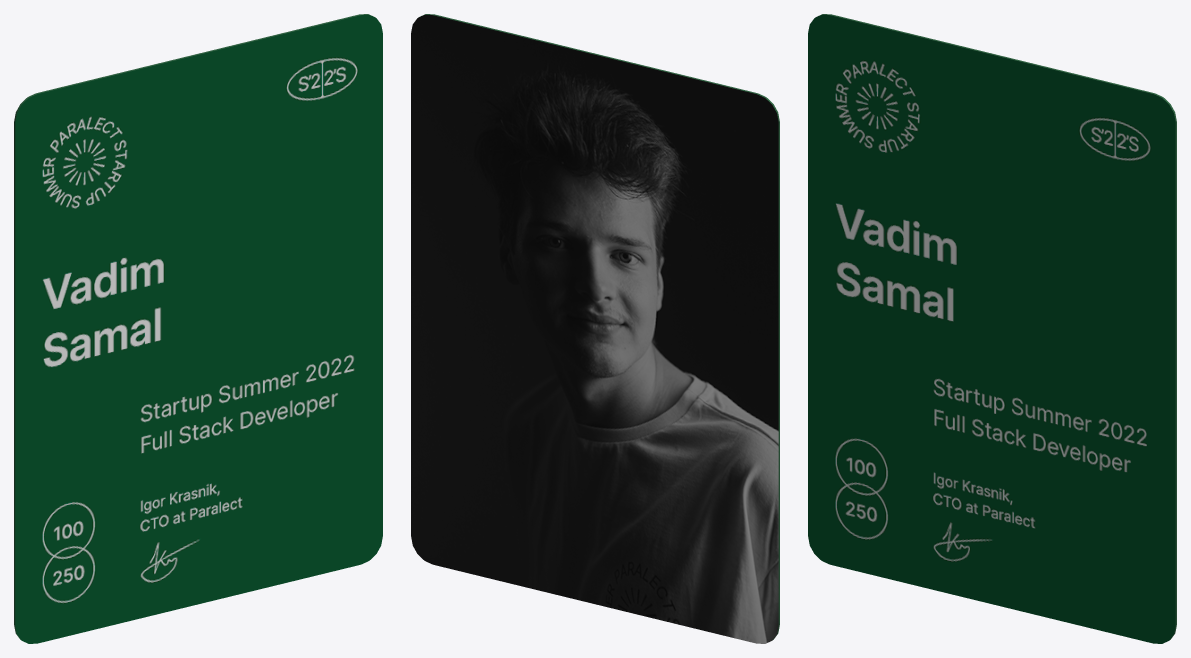
Rendered from card.glb.
3 renders of one model, left to right at view 1: azimuth 30°, elevation 25°; view 2: azimuth 150°, elevation 25°; view 3: azimuth 330°, elevation 25°, orthographic.
Visible parts, largest first — view 1: Plane; view 2: Plane; view 3: Plane.
Boxes of the visible parts, <box> form: Plane: <box>14,14,382,643</box>; Plane: <box>411,14,779,643</box>; Plane: <box>808,14,1176,643</box>.
Bounding box in the file's own units: 0.07 × 0.1 × 0.000396.
3 materials, 2 textured.
